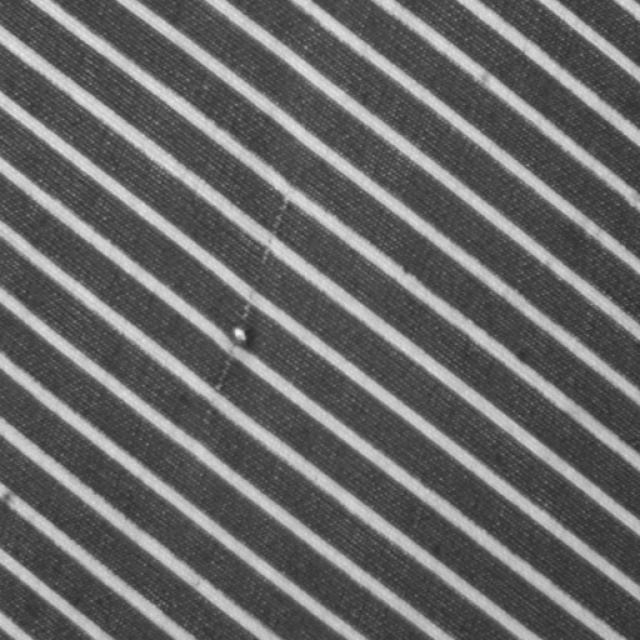Hole-Defect: (190, 289, 259, 428), (255, 169, 298, 264)
